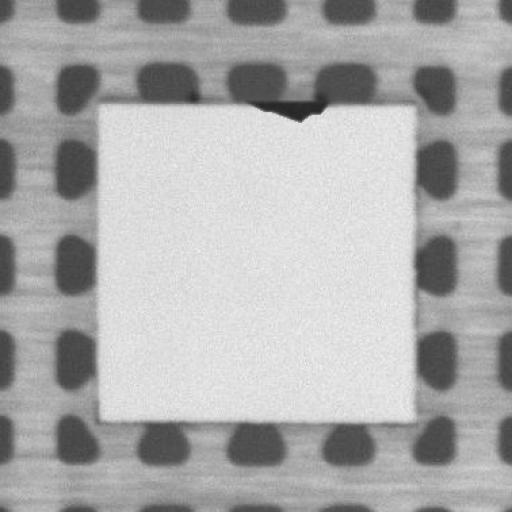DIE_BROKEN: (246, 93, 332, 122)
